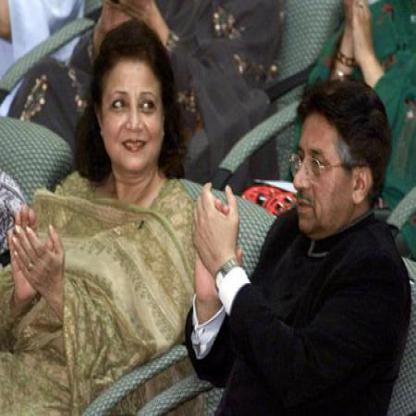face: (287, 93, 358, 242), (102, 41, 169, 173)
